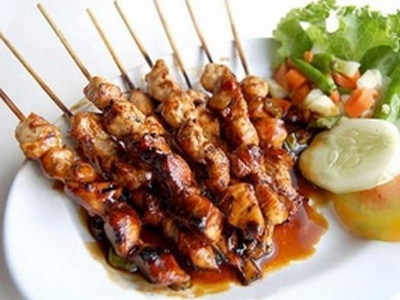sate: (22, 14, 285, 286)
